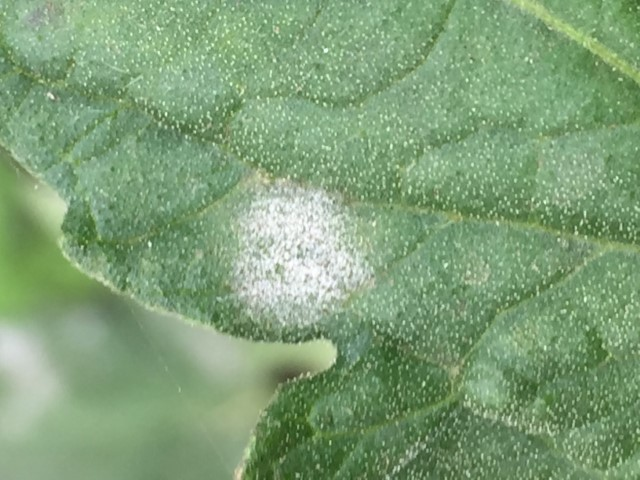oidio: (228, 179, 375, 324)
